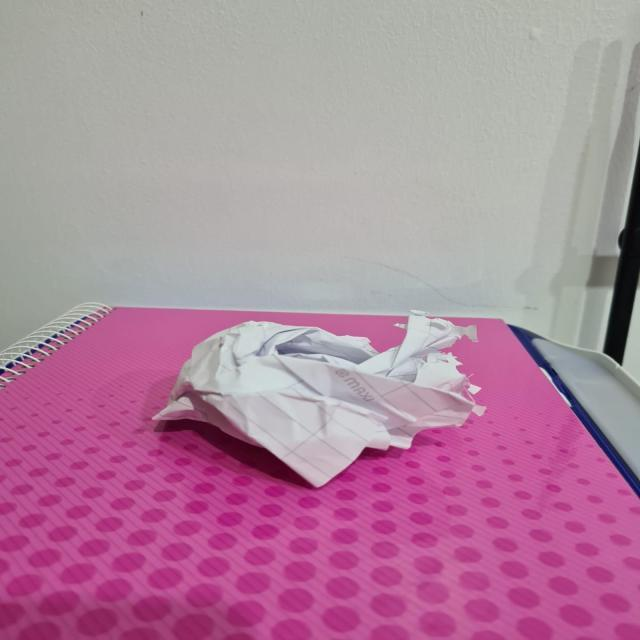cardboard paper: (153, 310, 482, 485)
